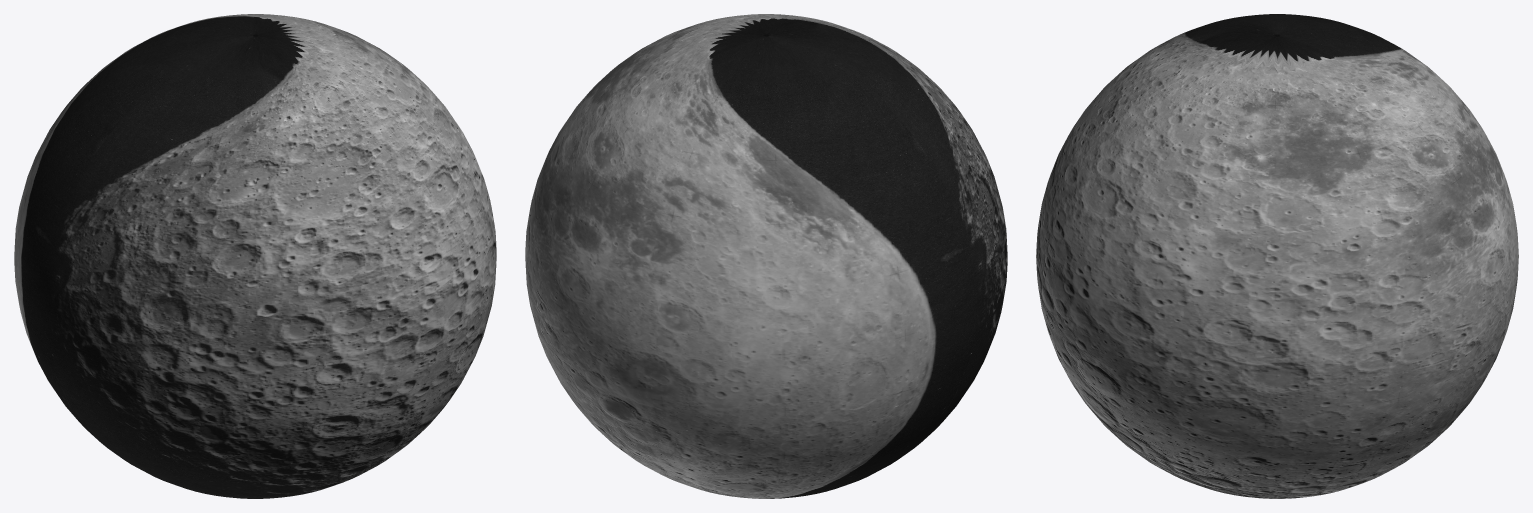
The model's file is Moon.obj.
The picture shows the model from 3 angles, left to right: view 1: azimuth 30°, elevation 25°; view 2: azimuth 150°, elevation 25°; view 3: azimuth 270°, elevation 25°; orthographic projection.
Visible parts, largest first — view 1: Planet_Sphere; view 2: Planet_Sphere; view 3: Planet_Sphere.
Part boxes in pixels (x1=…): Planet_Sphere: x1=14, y1=14, x2=496, y2=498; Planet_Sphere: x1=525, y1=14, x2=1007, y2=498; Planet_Sphere: x1=1036, y1=14, x2=1518, y2=498.
Size of the model in its own units: 1.97 by 2 by 1.97.
